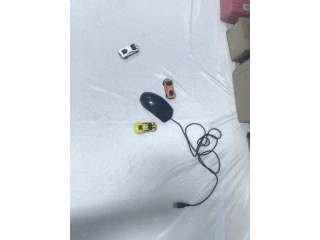box: (226, 16, 251, 63)
mouse: (139, 91, 175, 123)
toy_car: (118, 43, 140, 59), (133, 121, 157, 134), (163, 78, 177, 100)
